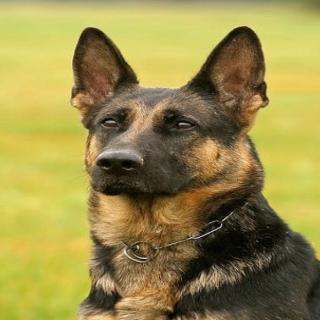dog: (54, 25, 286, 211)
nose: (93, 147, 147, 176)
